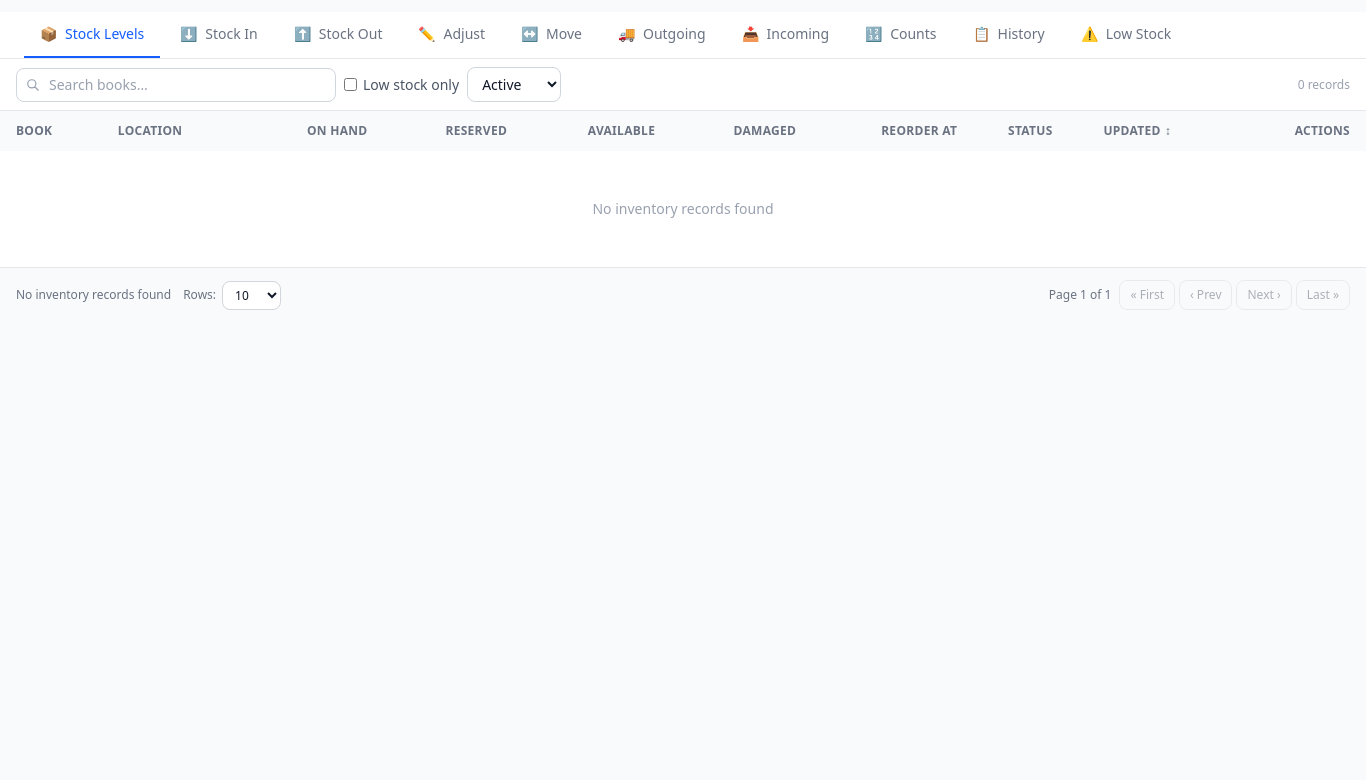
Scenario: Inventory manual stock changes › sets the direction from the adjustment reason (was: free for every reason)
The image size is (1366, 780).
Click the button "✏️ Adjust" at [452, 35], box [402,12,501,58]
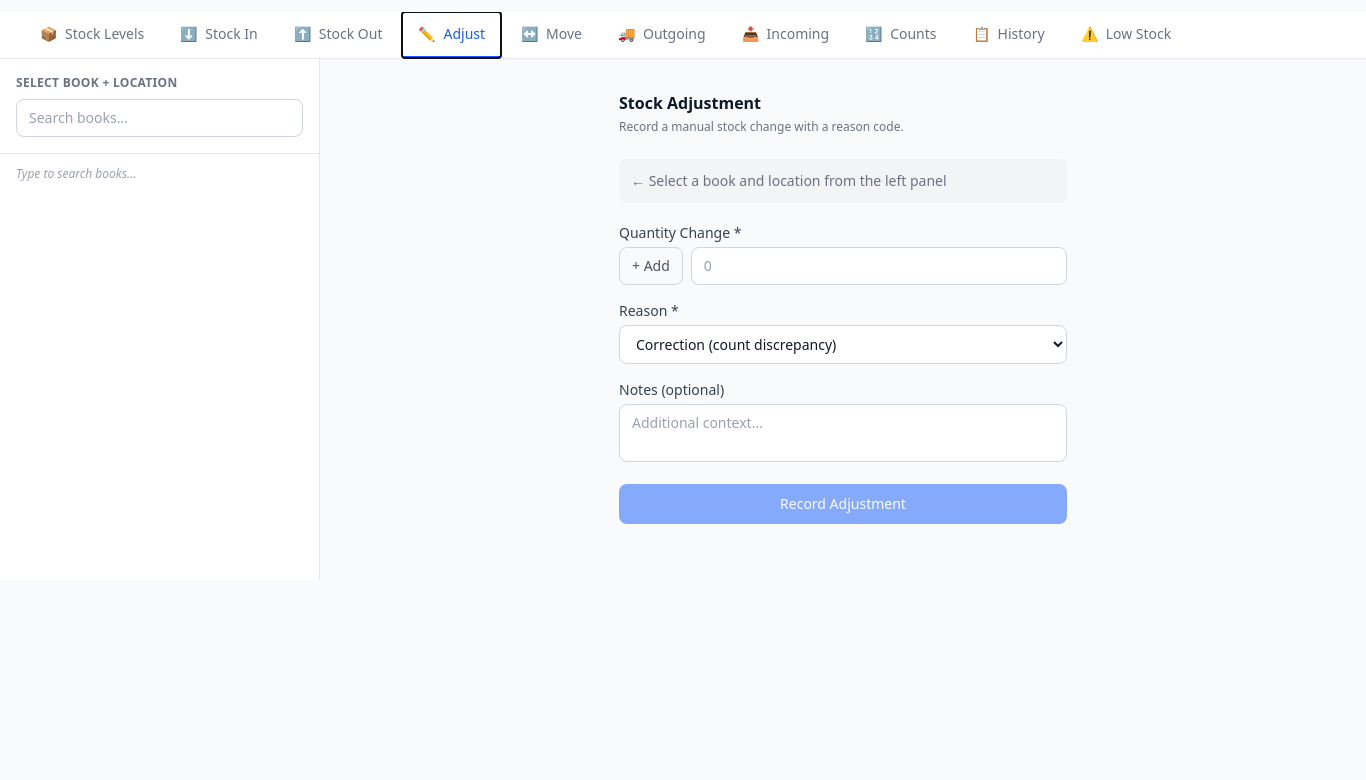
Select "Damage" in the dropdown at [843, 344], box [619,325,1067,364]
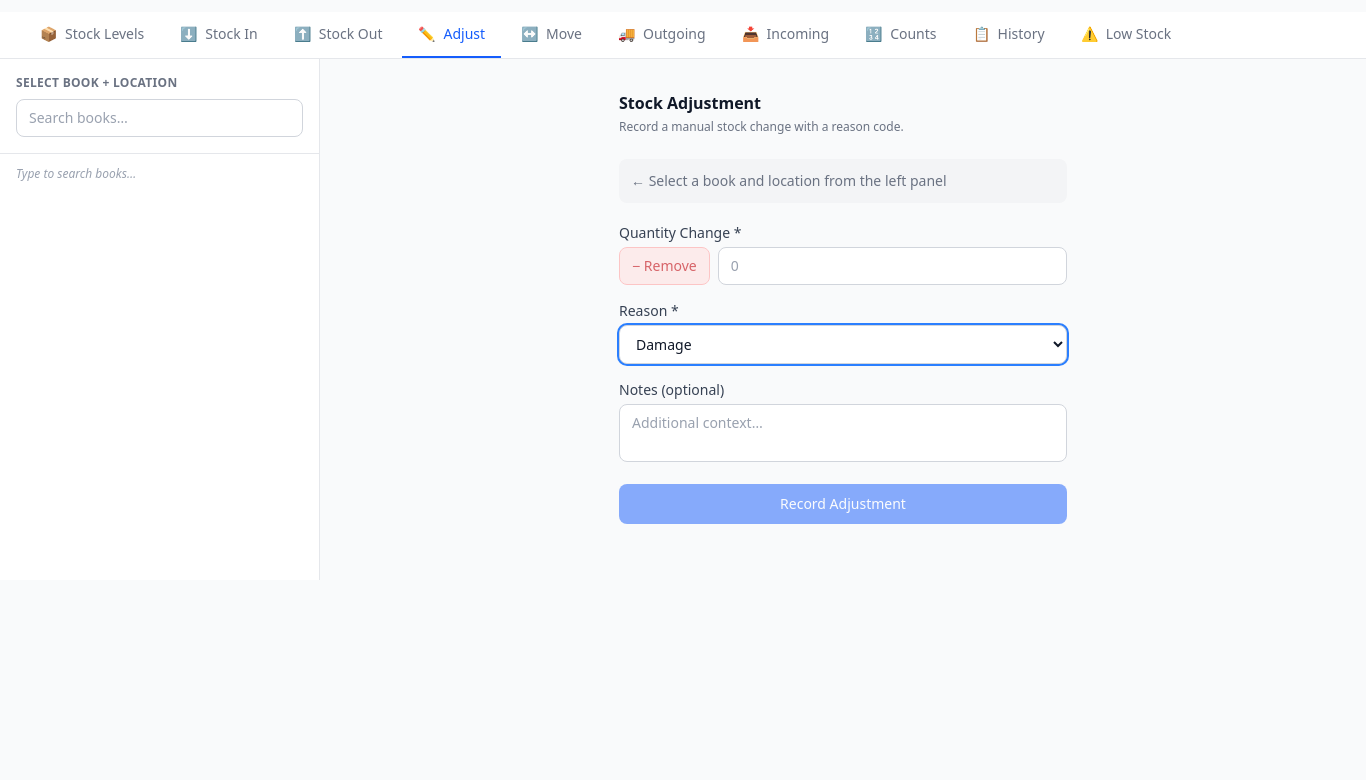
Result: the button "− Remove" is disabled at [619,247,710,285]
Select "Customer Return" in the dropdown at [843, 344], box [619,325,1067,364]
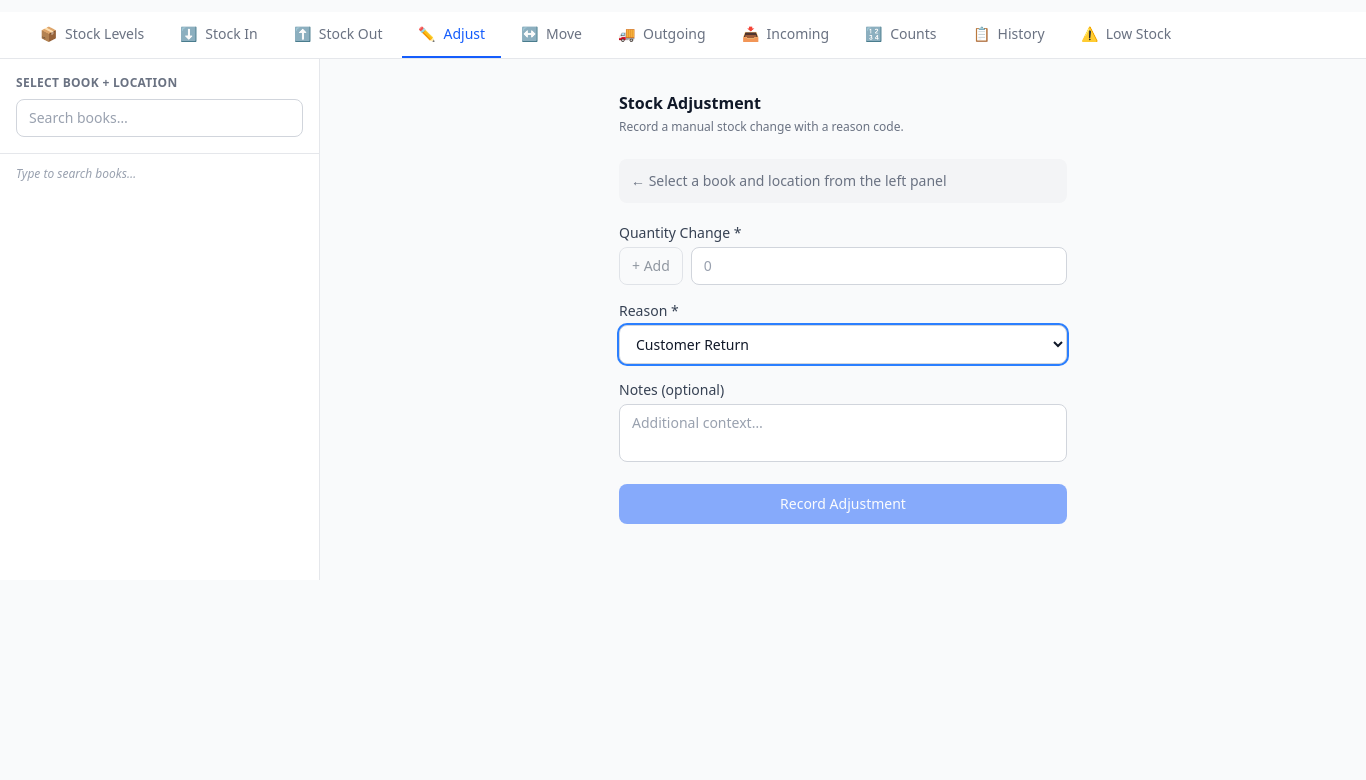
Result: the button "+ Add" is disabled at [619,247,683,285]
Select "Correction (count discrepancy)" in the dropdown at [843, 344], box [619,325,1067,364]
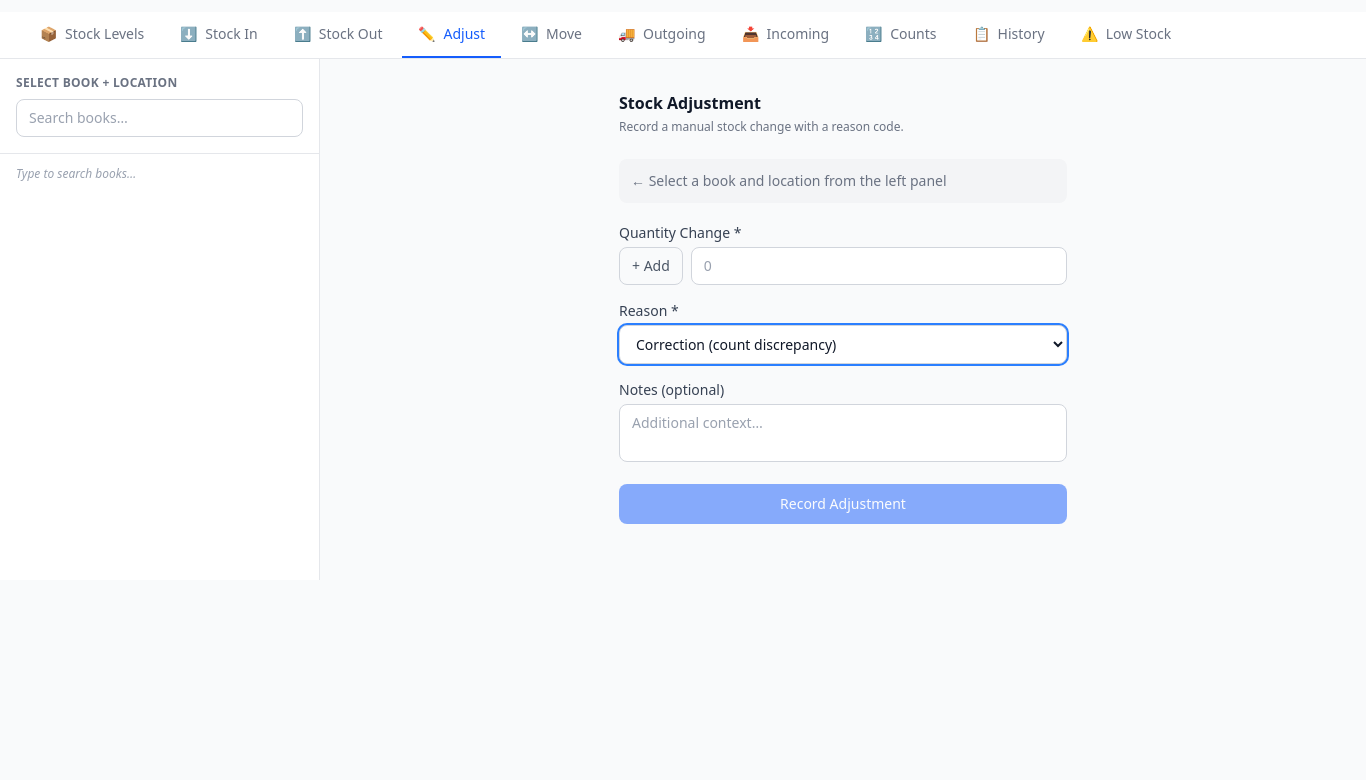
Result: the button "+ Add" is enabled at [619,247,683,285]
